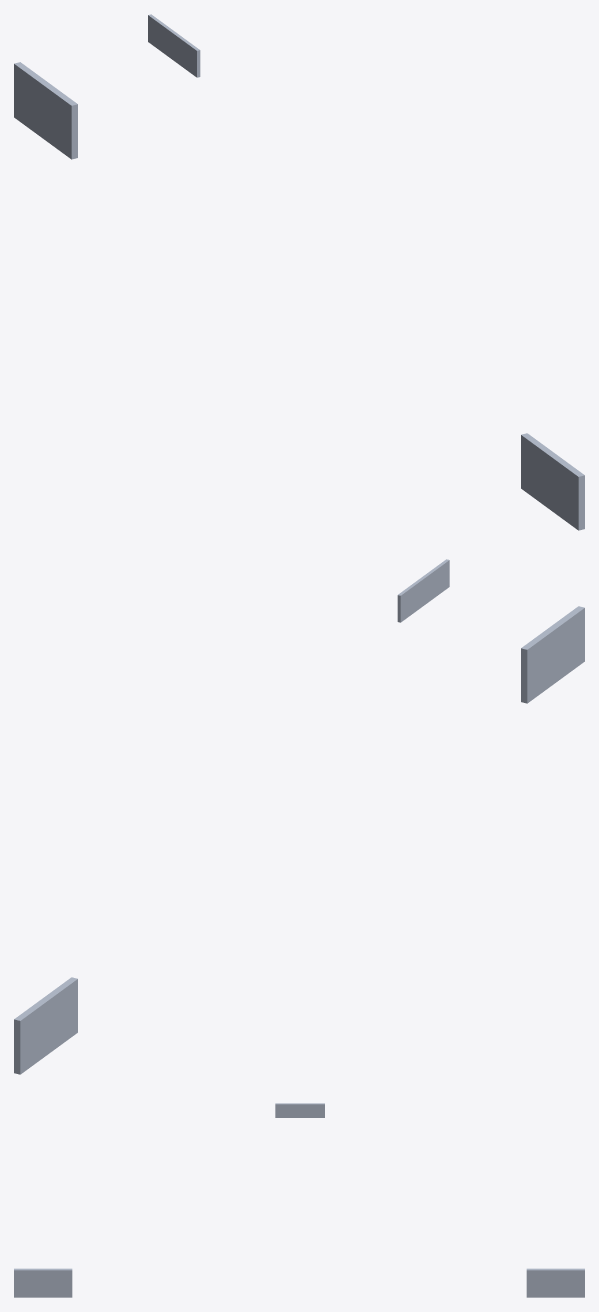
The model's file is Mirrors.glb.
3 renders of one model, top to bottom at view 1: azimuth 30°, elevation 25°; view 2: azimuth 150°, elevation 25°; view 3: azimuth 270°, elevation 25°, orthographic. The views are drawn at different scales.
Visible parts, largest first — view 1: Cube.119; view 2: Cube.119; view 3: Cube.119.
Boxes of the visible parts, box(x1,y1,x2,y2) form: Cube.119: box(14, 14, 584, 530); Cube.119: box(14, 559, 584, 1074); Cube.119: box(14, 1103, 584, 1297).
Size of the model in its own units: 0.0121 by 0.0286 by 0.0912.
Materials: 1 (1 with a texture image).
